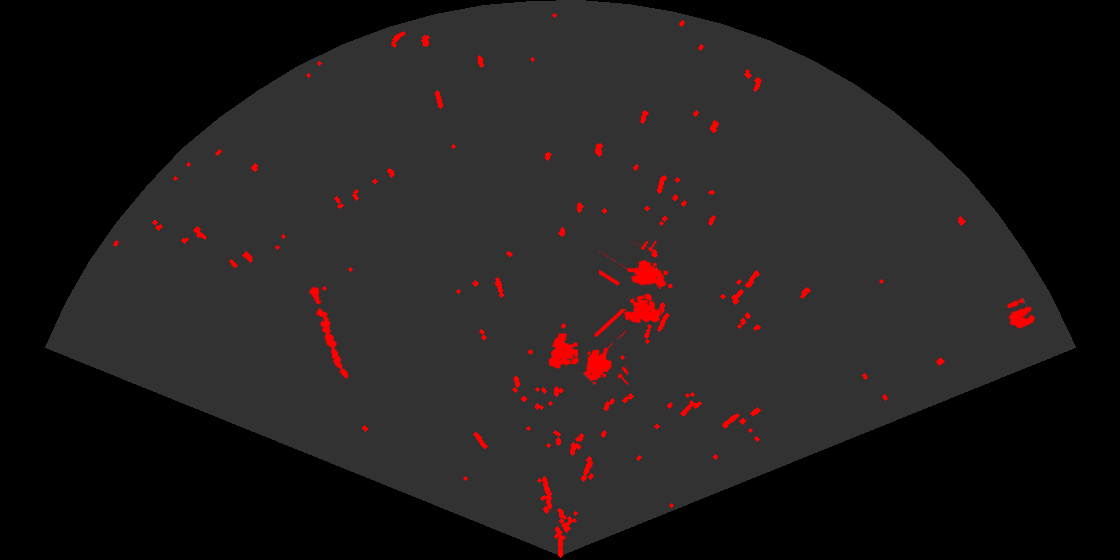ball: (1005, 296, 1037, 330)
cage: (547, 309, 628, 387), (599, 241, 674, 325)
chain: (307, 285, 350, 380)
